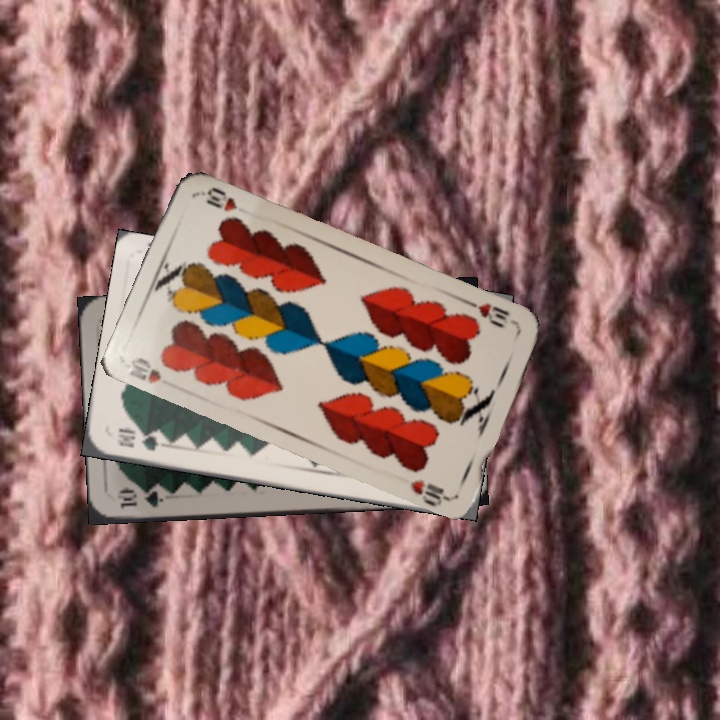G10: (113, 486, 165, 512), (114, 425, 161, 453)
H10: (463, 297, 512, 331), (125, 353, 164, 387)
